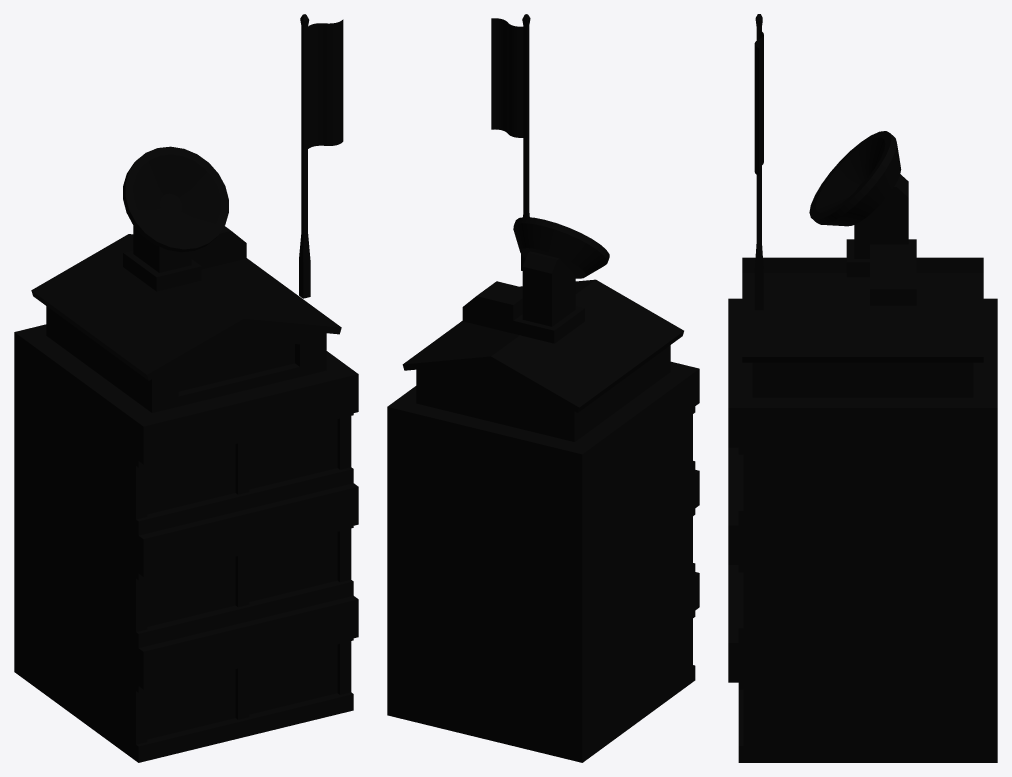
File: control-tower.glb
The picture shows the model from 3 angles, left to right: view 1: azimuth 30°, elevation 25°; view 2: azimuth 150°, elevation 25°; view 3: azimuth 270°, elevation 25°; orthographic projection. The views are drawn at different scales.
Visible parts, largest first — view 1: Mesh noExport; view 2: Mesh noExport; view 3: Mesh noExport.
Part boxes in pixels (x1=…): Mesh noExport: x1=14, y1=14, x2=358, y2=762; Mesh noExport: x1=387, y1=14, x2=699, y2=762; Mesh noExport: x1=728, y1=14, x2=997, y2=762.
Bounding box in the file's own units: 0.9999 × 3.1 × 1.04.
Materials: 1 (1 with a texture image).
